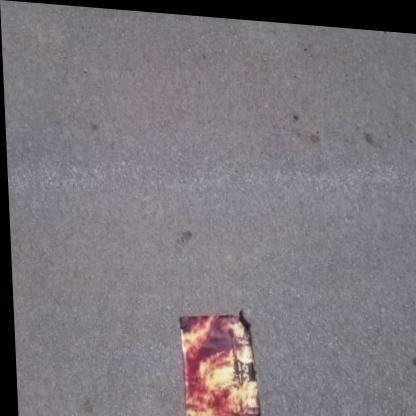fire-poster: (175, 301, 261, 416)
